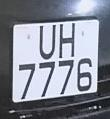6: (76, 57, 94, 95)
7: (16, 61, 39, 103), (36, 61, 57, 101), (55, 60, 76, 98)
H: (57, 21, 78, 60)
U: (35, 22, 58, 61)
